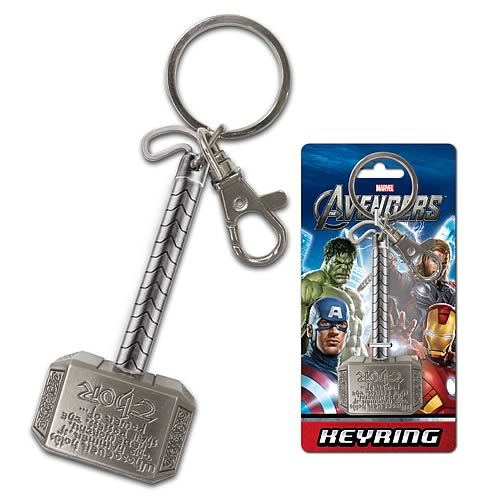THOR Hammer: (27, 174, 250, 487), (146, 312, 193, 334), (110, 186, 116, 243)
